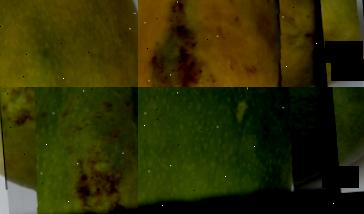PartiallyRipe: (0, 0, 138, 87)
Ripe: (138, 0, 327, 87)
Unripe: (138, 87, 339, 212), (0, 87, 138, 214)
